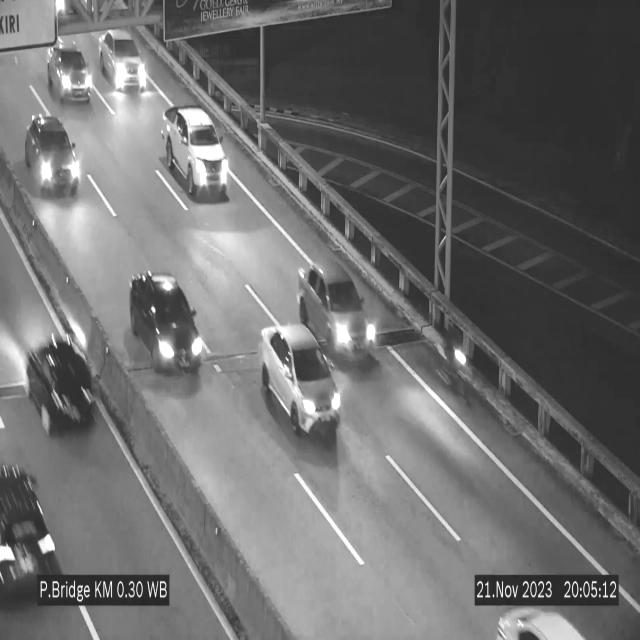Car: (0, 454, 64, 614), (24, 324, 111, 440), (260, 325, 342, 435), (298, 261, 376, 370), (130, 272, 204, 374), (162, 105, 228, 198), (28, 118, 82, 206), (97, 26, 151, 100), (45, 37, 97, 112)
Motorcycle: (440, 316, 470, 409)
